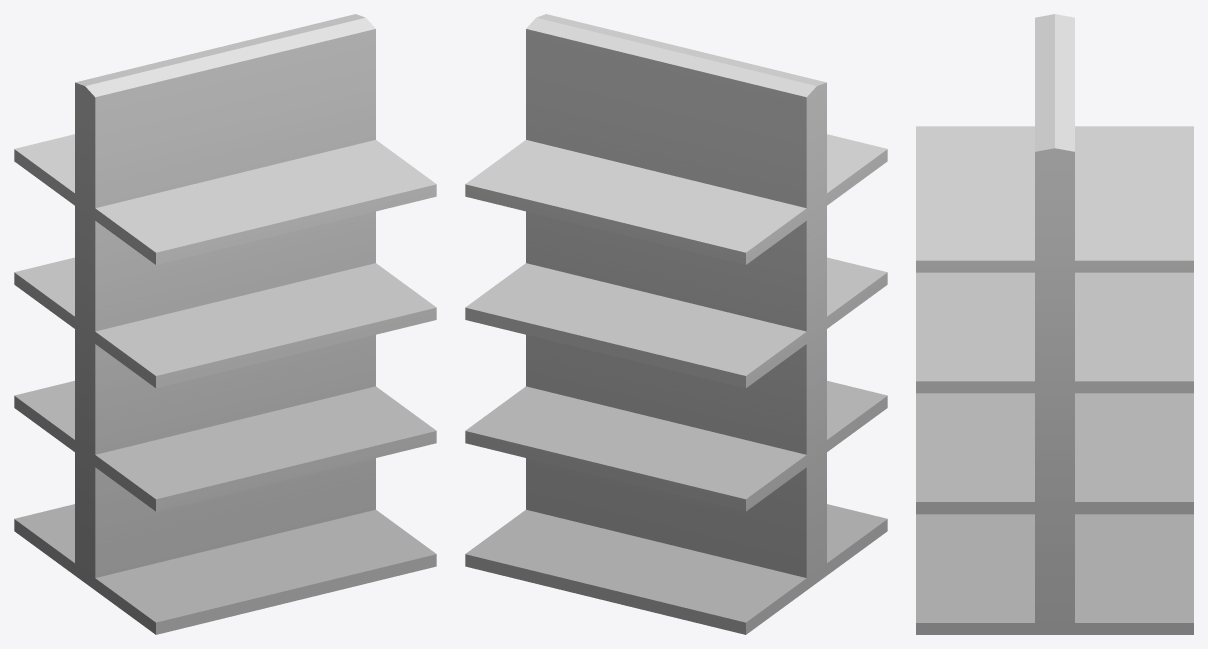
File: case_short_double.fbx
3 views of the same model, side by side, from view 1: azimuth 30°, elevation 25°; view 2: azimuth 150°, elevation 25°; view 3: azimuth 270°, elevation 25° (orthographic). The views are drawn at different scales.
Visible parts, largest first — view 1: case_short_double; view 2: case_short_double; view 3: case_short_double.
Boxes of the visible parts, x1,y1,x2,y2 form: case_short_double: [14, 14, 436, 634]; case_short_double: [465, 14, 887, 634]; case_short_double: [916, 14, 1193, 634].
Size of the model in its own units: 720 by 1218 by 630.
